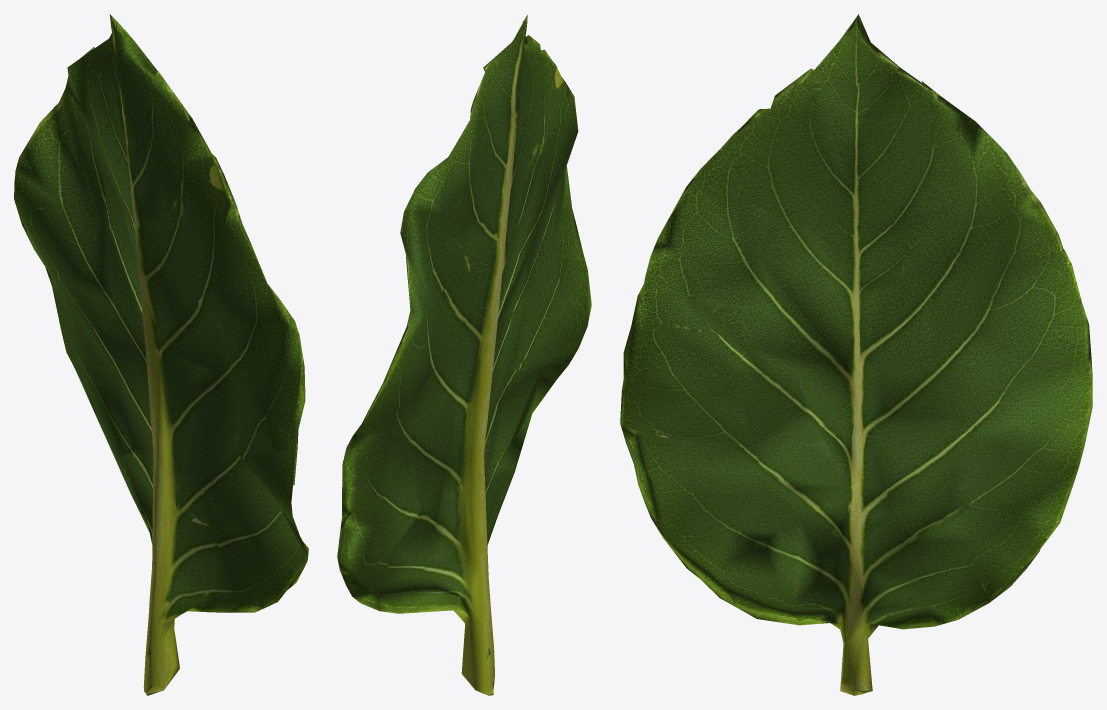
The model's file is leafcard_lod1.glb.
3 renders of one model, left to right at view 1: azimuth 30°, elevation 25°; view 2: azimuth 150°, elevation 25°; view 3: azimuth 270°, elevation 25°, orthographic. The views are drawn at different scales.
Parts seen in each view (by area): view 1: tripo_node_b59f5614-e054-414b-b1bf-3f1816f5cf16; view 2: tripo_node_b59f5614-e054-414b-b1bf-3f1816f5cf16; view 3: tripo_node_b59f5614-e054-414b-b1bf-3f1816f5cf16.
Boxes of the visible parts, box(x1,y1,x2,y2) form: tripo_node_b59f5614-e054-414b-b1bf-3f1816f5cf16: box(14, 14, 308, 695); tripo_node_b59f5614-e054-414b-b1bf-3f1816f5cf16: box(337, 15, 591, 695); tripo_node_b59f5614-e054-414b-b1bf-3f1816f5cf16: box(620, 14, 1092, 695).
Bounding box in the file's own units: 0.0225 × 0.1495 × 0.0963.
1 material, 1 textured.
